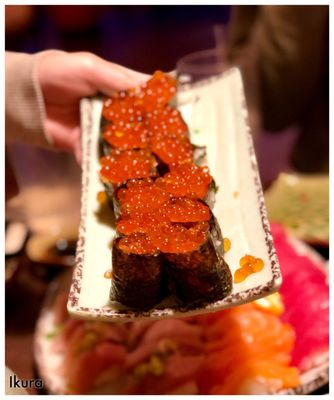pizza: (5, 49, 152, 280)
